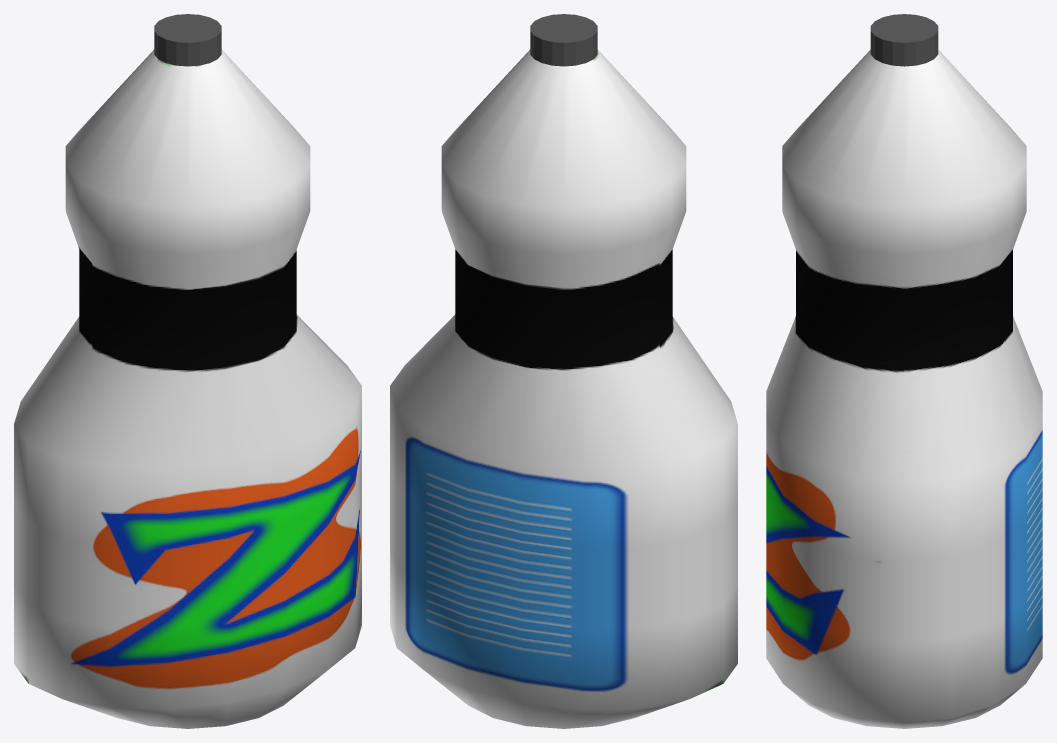
File: ZappoShoot.FBX
3 renders of one model, left to right at view 1: azimuth 30°, elevation 25°; view 2: azimuth 150°, elevation 25°; view 3: azimuth 270°, elevation 25°, orthographic.
Parts seen in each view (by area): view 1: Cylinder001; view 2: Cylinder001; view 3: Cylinder001.
Part boxes in pixels (<box>): Cylinder001: <box>14,14,361,728</box>; Cylinder001: <box>390,14,737,728</box>; Cylinder001: <box>766,14,1042,728</box>.
Bounding box in the file's own units: 19.06 × 37.33 × 14.29.
1 material, 1 textured.
